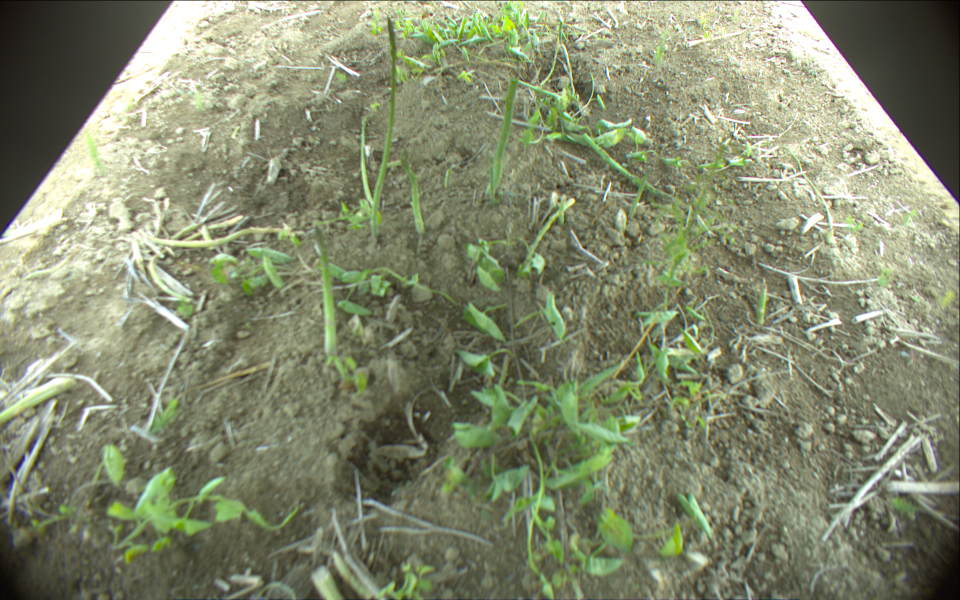aspa: (583, 134, 686, 209), (371, 18, 400, 234), (1, 376, 76, 428), (522, 198, 573, 272), (146, 227, 293, 251), (489, 77, 516, 198), (315, 224, 336, 358), (402, 162, 424, 235), (360, 116, 373, 205)
